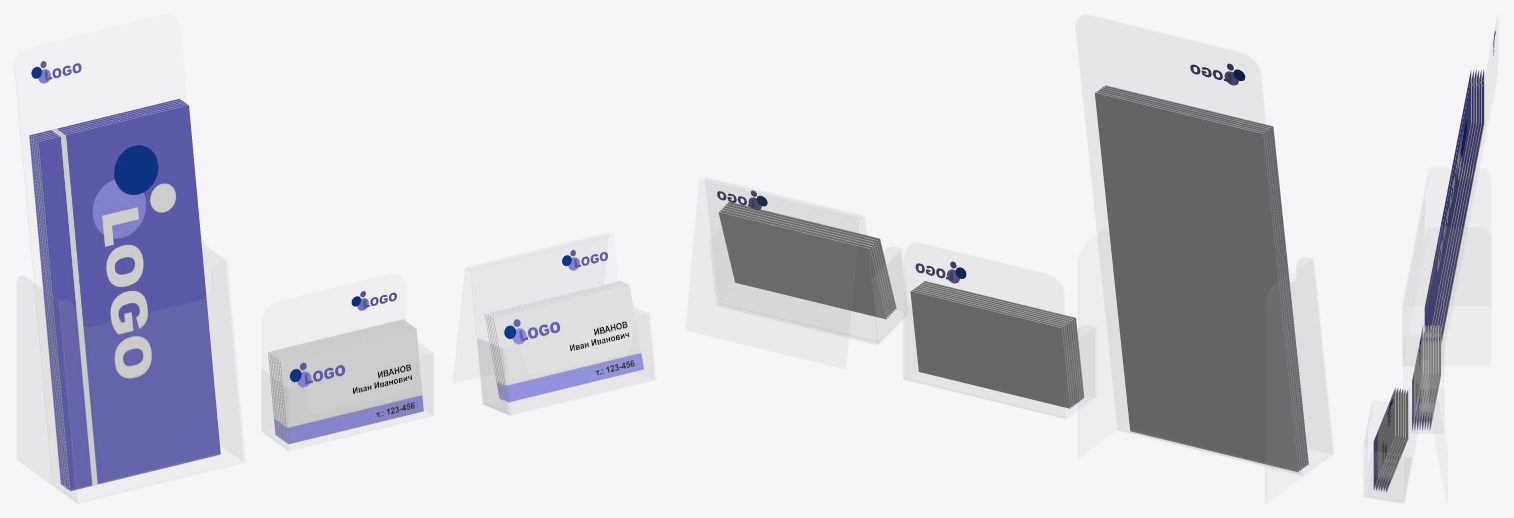
The model's file is illustrationn-transformed.glb.
3 views of the same model, side by side, from view 1: azimuth 30°, elevation 25°; view 2: azimuth 150°, elevation 25°; view 3: azimuth 270°, elevation 25° (orthographic). The views are drawn at different scales.
Parts seen in each view (by area): view 1: Object_7, Object_8, Object_4, Object_11, Object_9, Object_2, Object_6; view 2: Object_9, Object_4, Object_2, Object_11, Object_8, Object_7, Object_6; view 3: Object_4, Object_7, Object_8, Object_11, Object_9, Object_2.
Part boxes in pixels (x1,y1,x2,y2): Object_7: (29,99,220,491); Object_8: (268,281,644,444); Object_4: (34,232,654,502); Object_11: (29,102,625,489); Object_9: (29,98,188,490); Object_2: (268,281,621,441); Object_6: (31,61,607,310); Object_9: (1095,86,1308,472); Object_4: (701,177,1332,475); Object_2: (718,202,1083,408); Object_11: (719,85,1308,471); Object_8: (720,202,1083,407); Object_7: (1095,85,1308,470); Object_6: (717,63,1245,283); Object_4: (1364,167,1490,502); Object_7: (1424,70,1483,340); Object_8: (1373,325,1440,491); Object_11: (1374,69,1484,492); Object_9: (1431,71,1484,342); Object_2: (1374,327,1440,490).
Size of the model in its own units: 367 by 257 by 107.
7 materials, 3 textured.
